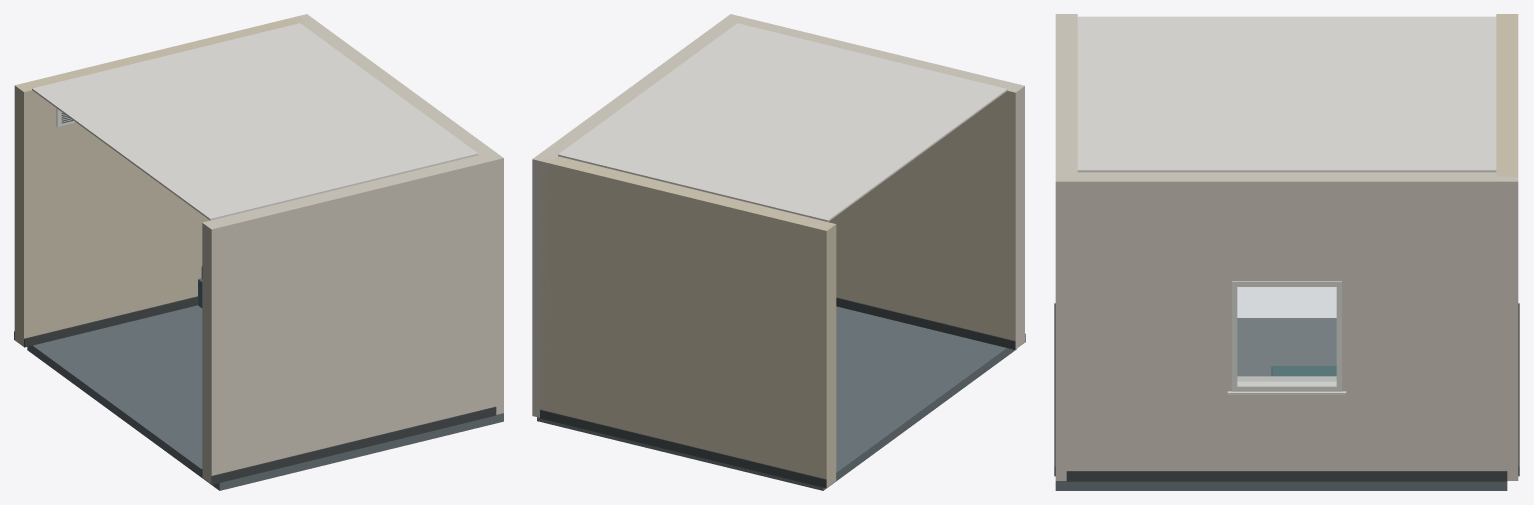
Rendered from ENV_PatientRoom_01.glb.
3 views of the same model, side by side, from view 1: azimuth 30°, elevation 25°; view 2: azimuth 150°, elevation 25°; view 3: azimuth 270°, elevation 25° (orthographic). The views are drawn at different scales.
Parts seen in each view (by area): view 1: ENV_PatientRoom_01_Architecture, ENV_PatientRoom_01_Ceiling, ENV_PatientRoom_01_Posts; view 2: ENV_PatientRoom_01_Architecture, ENV_PatientRoom_01_Ceiling, ENV_PatientRoom_01_Posts; view 3: ENV_PatientRoom_01_Architecture, ENV_PatientRoom_01_Ceiling, ENV_PatientRoom_01_Posts, PROP_Bed_AntiLigature_Mesh.
Boxes of the visible parts, x1=… form: ENV_PatientRoom_01_Architecture: x1=14, y1=16, x2=503, y2=490; ENV_PatientRoom_01_Ceiling: x1=32, y1=23, x2=478, y2=220; ENV_PatientRoom_01_Posts: x1=291, y1=14, x2=503, y2=414; ENV_PatientRoom_01_Architecture: x1=537, y1=16, x2=1025, y2=490; ENV_PatientRoom_01_Ceiling: x1=558, y1=23, x2=1007, y2=221; ENV_PatientRoom_01_Posts: x1=532, y1=14, x2=745, y2=417; ENV_PatientRoom_01_Architecture: x1=1054, y1=14, x2=1519, y2=490; ENV_PatientRoom_01_Ceiling: x1=1077, y1=16, x2=1496, y2=172; ENV_PatientRoom_01_Posts: x1=1055, y1=174, x2=1518, y2=480; PROP_Bed_AntiLigature_Mesh: x1=1271, y1=366, x2=1336, y2=376.
Size of what is drawn, in the model's own units: 3.64 by 3.12 by 4.22.
